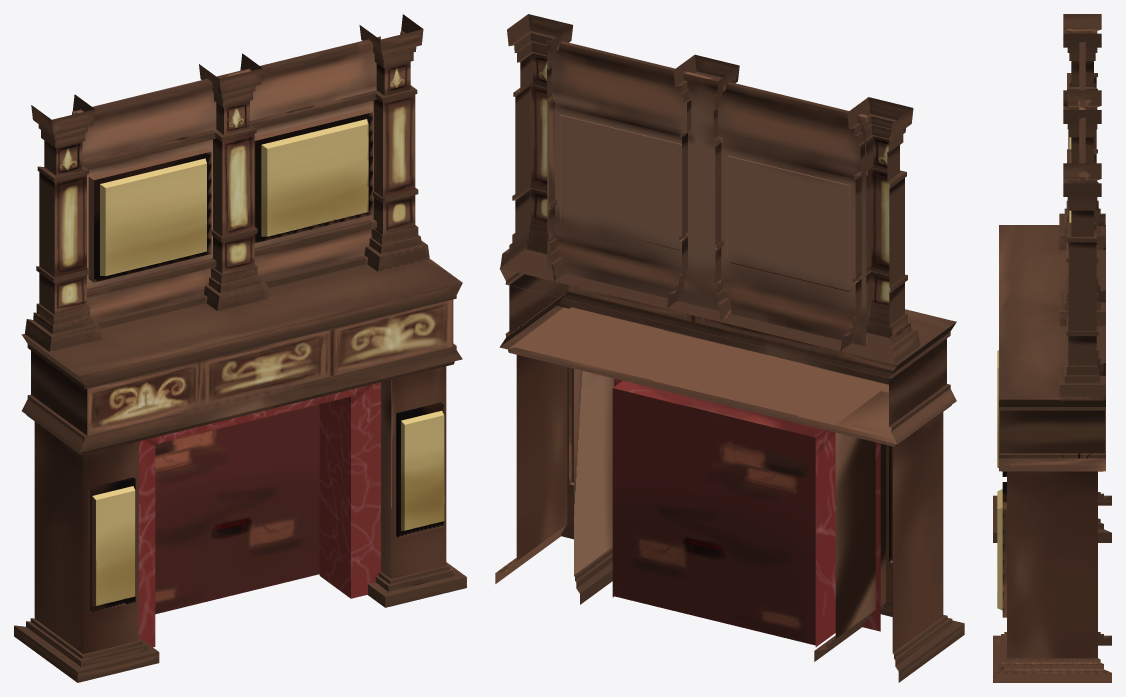
The model's file is fireplace.fbx.
3 views of the same model, side by side, from view 1: azimuth 30°, elevation 25°; view 2: azimuth 150°, elevation 25°; view 3: azimuth 270°, elevation 25° (orthographic). The views are drawn at different scales.
Parts seen in each view (by area): view 1: lareira; view 2: lareira; view 3: lareira.
Boxes of the visible parts, x1,y1,x2,y2 form: lareira: (14,14,466,682); lareira: (495,14,964,682); lareira: (993,14,1111,682).
Size of the model in its own units: 127 by 166 by 36.02.
